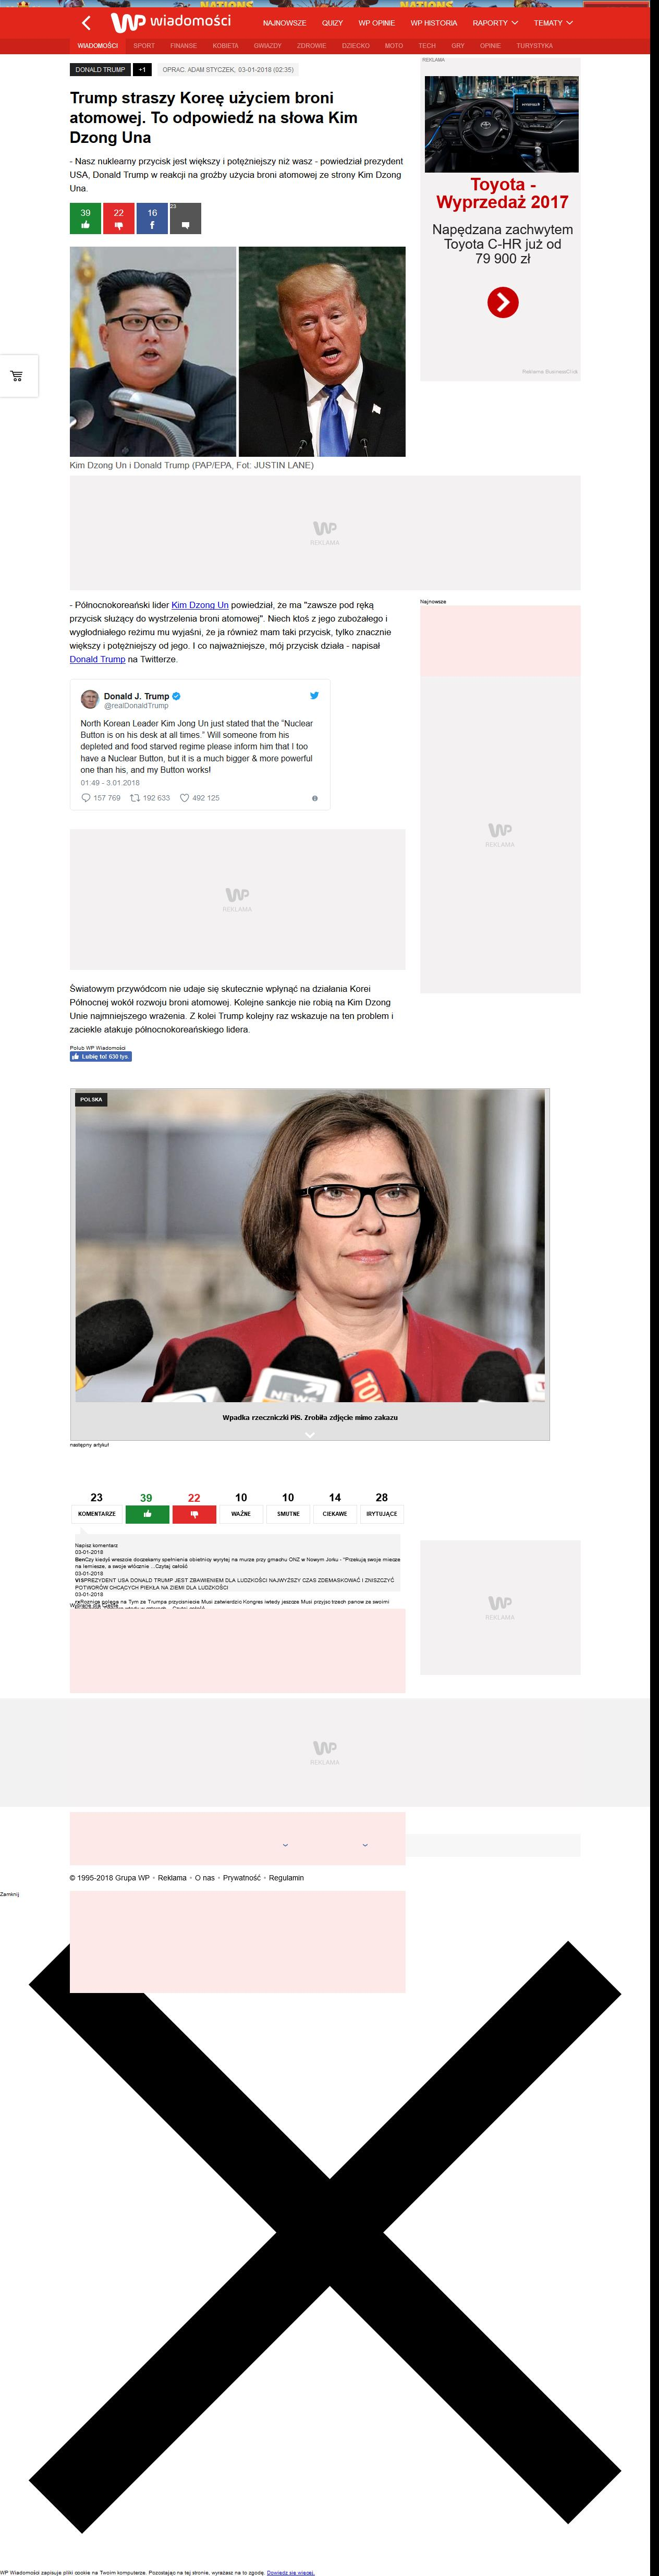title: (69, 90, 358, 146)
